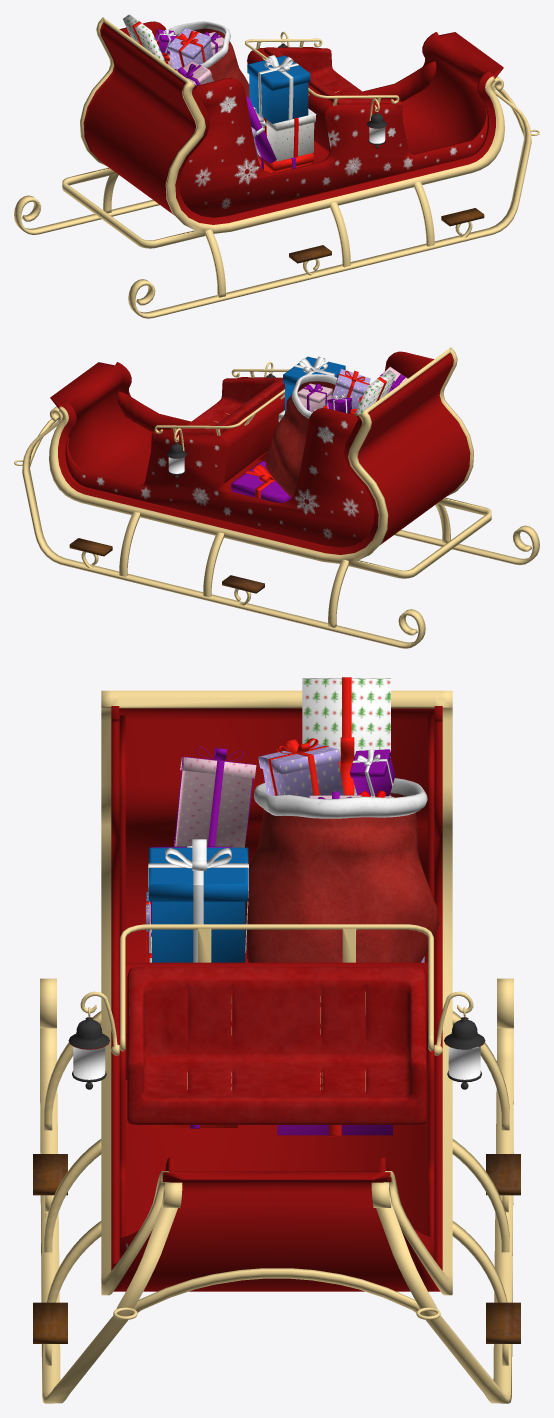
Rendered from uploads_files_5642601_santa_clauss_sleigh.glb.
3 views of the same model, one above another, from view 1: azimuth 30°, elevation 25°; view 2: azimuth 150°, elevation 25°; view 3: azimuth 270°, elevation 25° (orthographic). The views are drawn at different scales.
Visible parts, largest first — view 1: sledge_low, gifts_low, cloth_low; view 2: sledge_low, gifts_low, cloth_low; view 3: sledge_low, gifts_low, cloth_low.
Part boxes in pixels (<box>): sledge_low: <box>14,17,539,318</box>; gifts_low: <box>123,14,316,172</box>; cloth_low: <box>162,21,249,97</box>; sledge_low: <box>14,347,539,648</box>; gifts_low: <box>231,356,407,502</box>; cloth_low: <box>265,374,337,497</box>; sledge_low: <box>33,690,520,1403</box>; gifts_low: <box>145,677,424,1136</box>; cloth_low: <box>245,778,439,962</box>.
Size of the model in its own units: 929 by 465 by 458.
3 materials, 3 textured.
